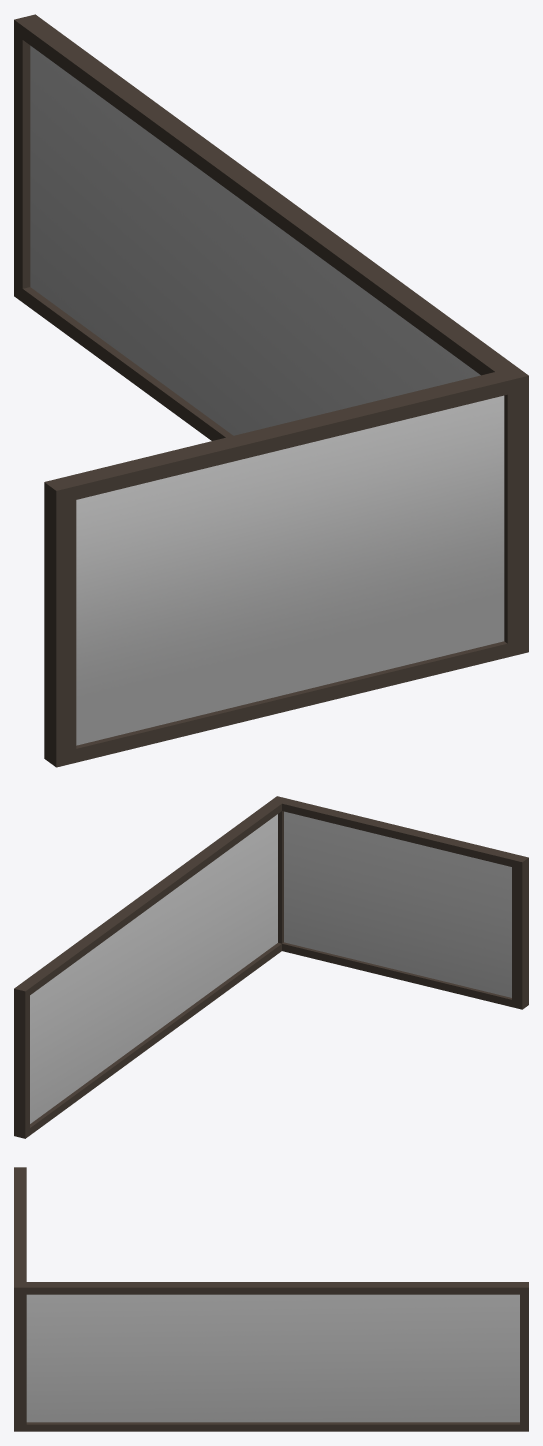
Rendered from Wall Turn.fbx.
3 views of the same model, one above another, from view 1: azimuth 30°, elevation 25°; view 2: azimuth 150°, elevation 25°; view 3: azimuth 270°, elevation 25° (orthographic). The views are drawn at different scales.
Parts seen in each view (by area): view 1: pCube17; view 2: pCube17; view 3: pCube17.
Boxes of the visible parts, <box> form: pCube17: <box>14,14,528,767</box>; pCube17: <box>14,796,528,1138</box>; pCube17: <box>14,1167,528,1431</box>.
Size of the model in its own units: 22.34 by 12.5 by 40.41.
Materials: 1 (1 with a texture image).
